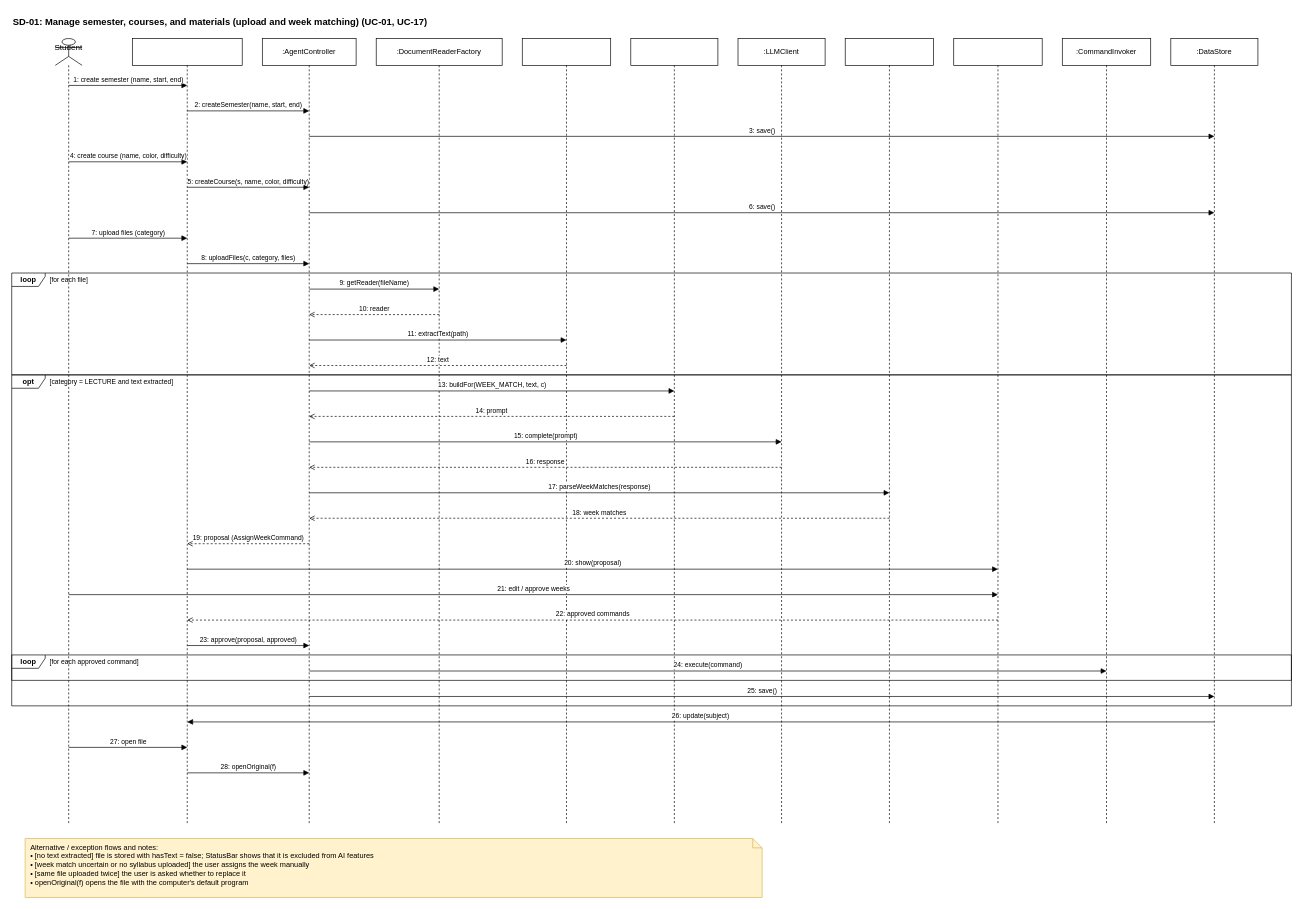
Some shapes in this 1303 by 909 pixel diagram are drawn without their labels. Each missing label, with the box of its shape:
:ApprovalDialog: (953, 38, 1042, 825)
:DocumentReader: (522, 38, 611, 825)
:PromptBuilder: (630, 38, 718, 825)
:ResponseParser: (845, 38, 934, 825)
:WorkspaceTreePanel: (132, 38, 242, 825)
